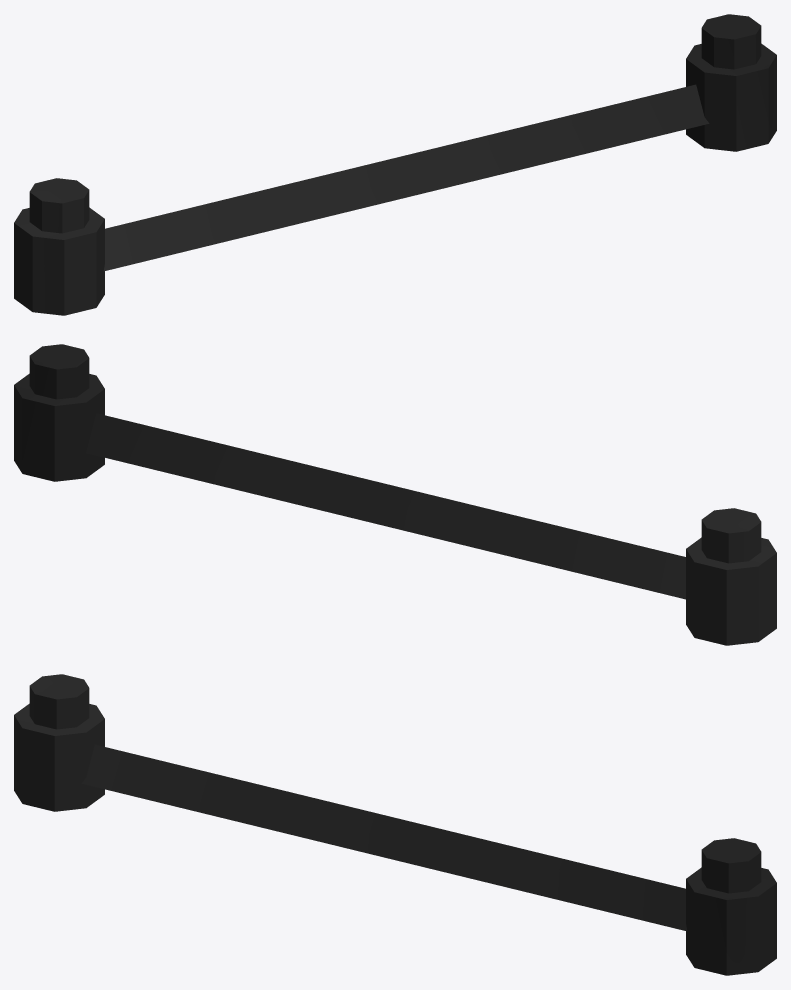
The model's file is SM_Tram_lock_V2.fbx.
3 renders of one model, top to bottom at view 1: azimuth 30°, elevation 25°; view 2: azimuth 150°, elevation 25°; view 3: azimuth 330°, elevation 25°, orthographic.
Visible parts, largest first — view 1: Cube.065; view 2: Cube.065; view 3: Cube.065.
Part boxes in pixels (box(x1,y1,x2,y2)): Cube.065: box(14, 14, 776, 315); Cube.065: box(14, 344, 776, 645); Cube.065: box(14, 674, 776, 975).
Bounding box in the file's own units: 151 × 20.55 × 14.71.
